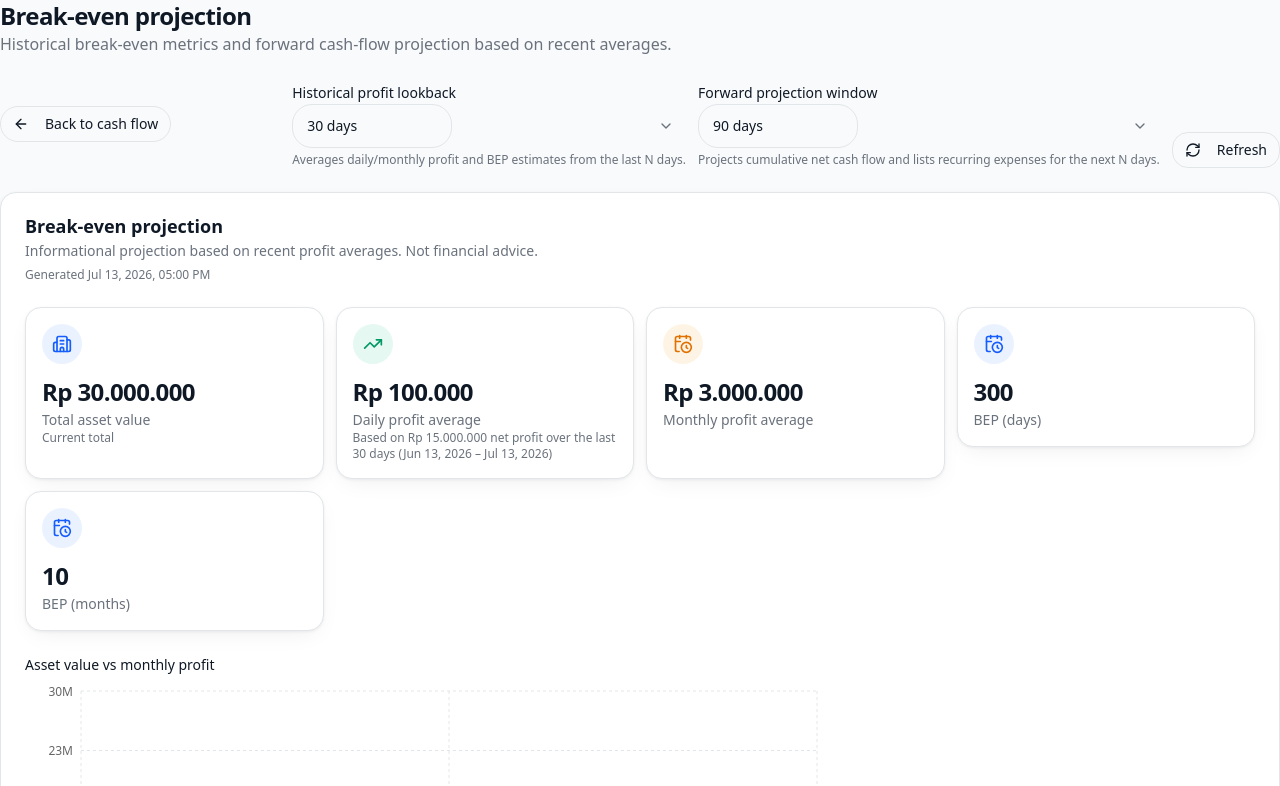
Scenario: AdminCashFlowBepPage › Projection window refetch updates chart and recurring expenses
Select "60 days" in the dropdown with test id "bep-projection-days-select" at (778, 126), box [698, 104, 858, 148]
(page scrolled)
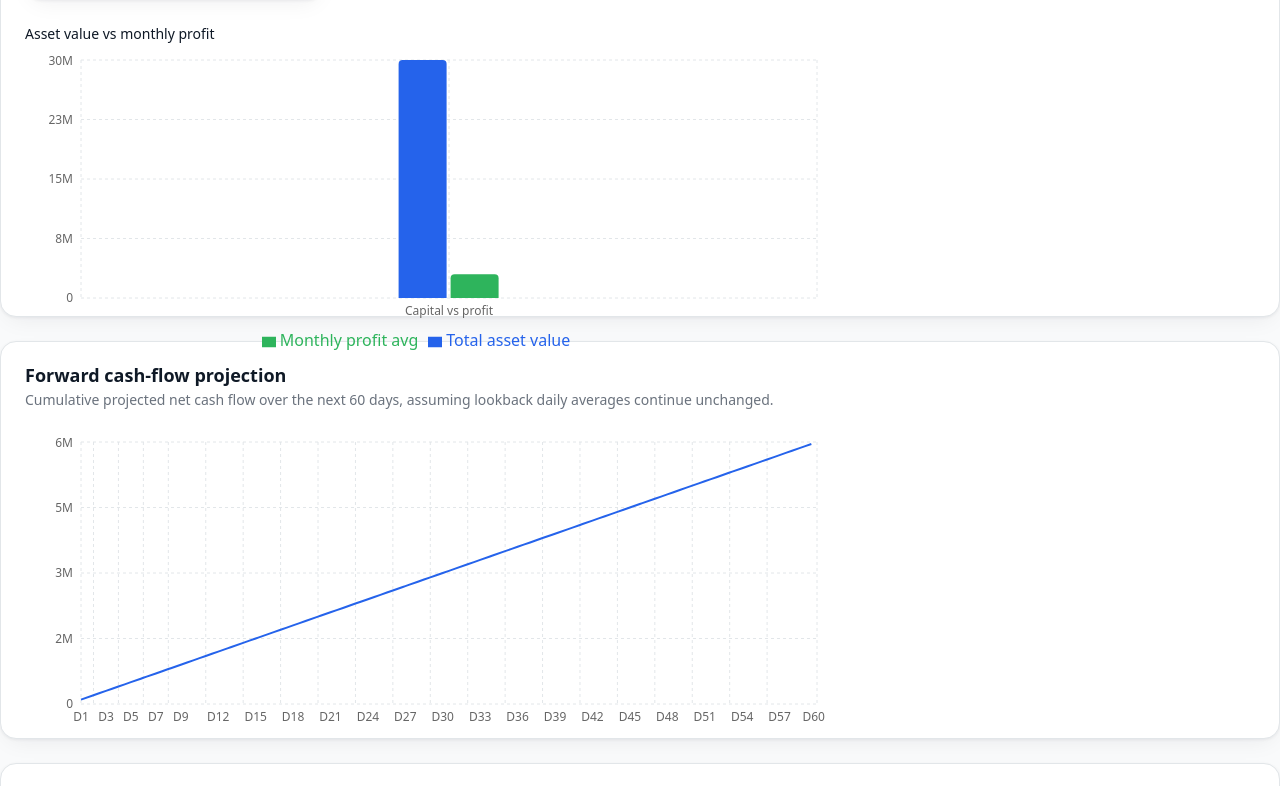
Expected: the text "Rent" is not shown
Now the text "over the next 60 days" is shown, box [25, 390, 774, 409]
